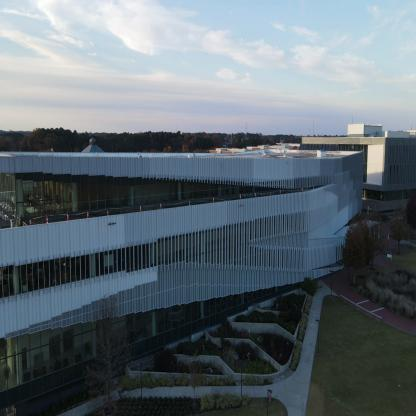Fitts- Woolard: (302, 133, 415, 211)
Hunt Library: (0, 125, 368, 415)
